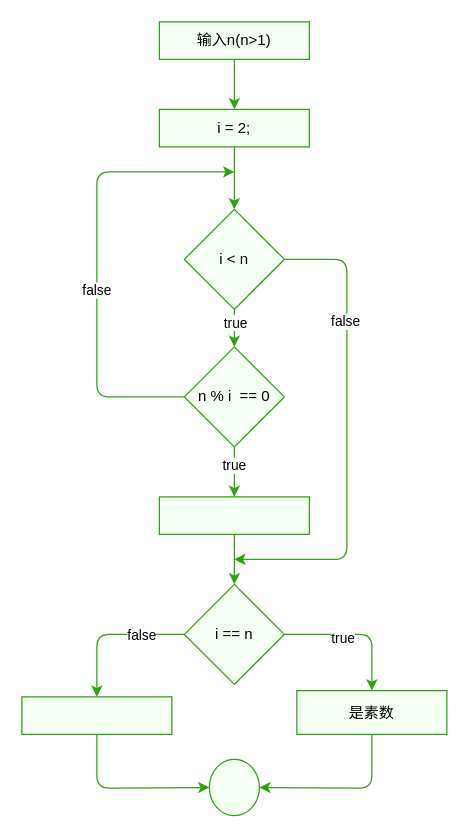
The diagram is 469 pixels wide and 838 high, and some of its shapes have lost their labels. Here are the shapes that lost their labels. From the top down, the centre of each, then its label:
[233,515]: 终止循环
[96,715]: 非素数
[233,787]: 结束
